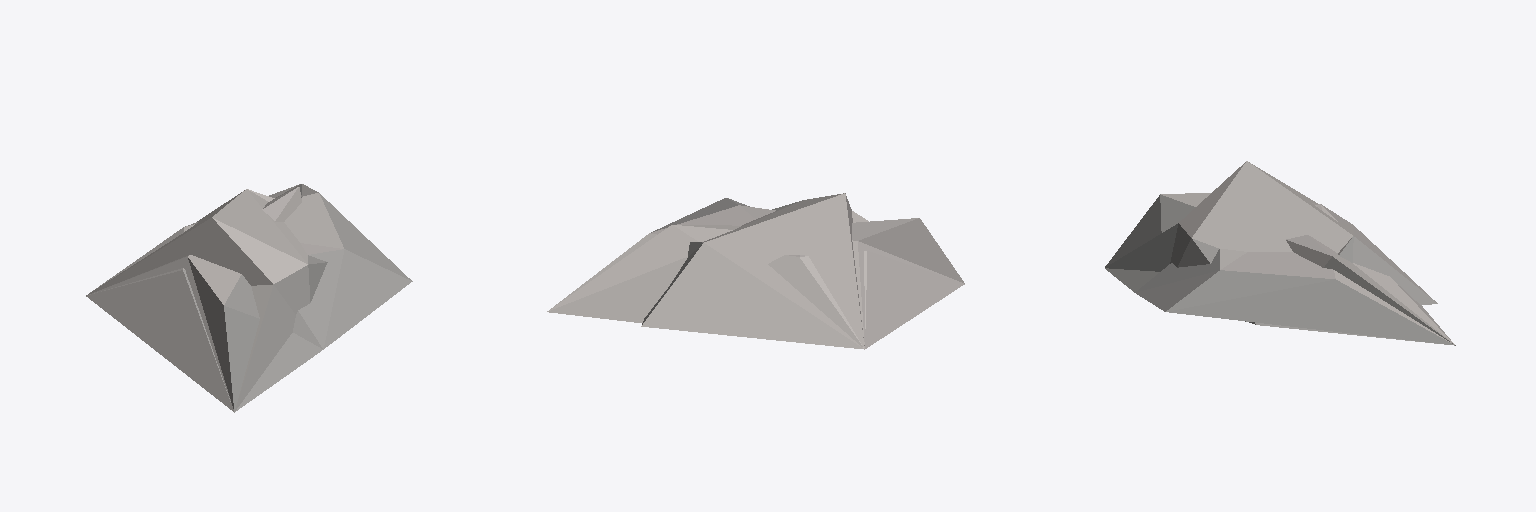
3 views of the same model, side by side, from view 1: azimuth 30°, elevation 25°; view 2: azimuth 150°, elevation 25°; view 3: azimuth 270°, elevation 25° (orthographic).
Parts seen in each view (by area): view 1: Rock_Cube.001, Rock.002_Cube.003, Rock.001_Cube.002; view 2: Rock.002_Cube.003, Rock_Cube.001, Rock.001_Cube.002; view 3: Rock_Cube.001, Rock.002_Cube.003, Rock.001_Cube.002.
Part boxes in pixels (left/top/right/bottom): Rock_Cube.001: left=86, top=184, right=412, bottom=411; Rock.002_Cube.003: left=86, top=189, right=327, bottom=412; Rock.001_Cube.002: left=89, top=184, right=301, bottom=411; Rock.002_Cube.003: left=641, top=193, right=868, bottom=349; Rock_Cube.001: left=548, top=198, right=964, bottom=348; Rock.001_Cube.002: left=547, top=218, right=964, bottom=344; Rock_Cube.001: left=1105, top=203, right=1454, bottom=345; Rock.002_Cube.003: left=1105, top=161, right=1437, bottom=324; Rock.001_Cube.002: left=1105, top=193, right=1455, bottom=345.
Bounding box in the file's own units: 1.89 × 0.8884 × 2.16.
Materials: 1 (1 with a texture image).